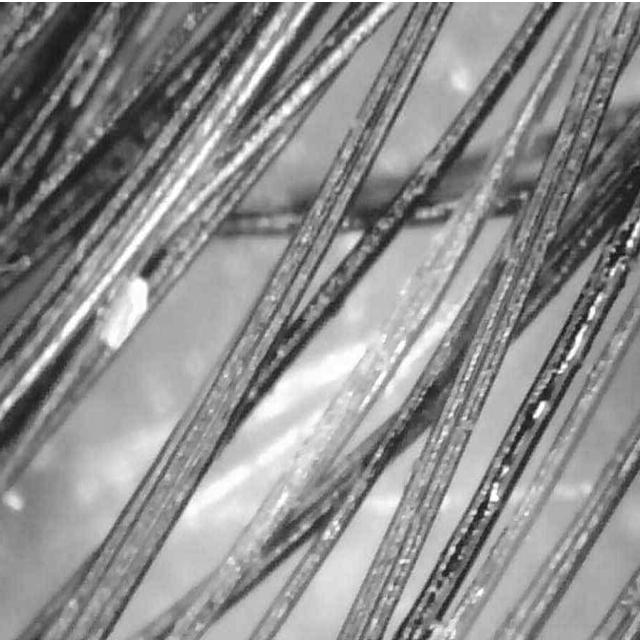d: (103, 276, 148, 351)
